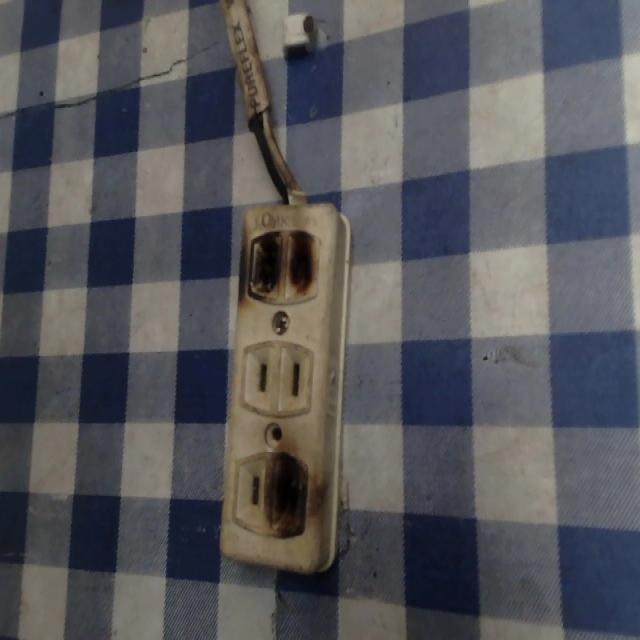-: (230, 216, 328, 309), (263, 440, 326, 548)
